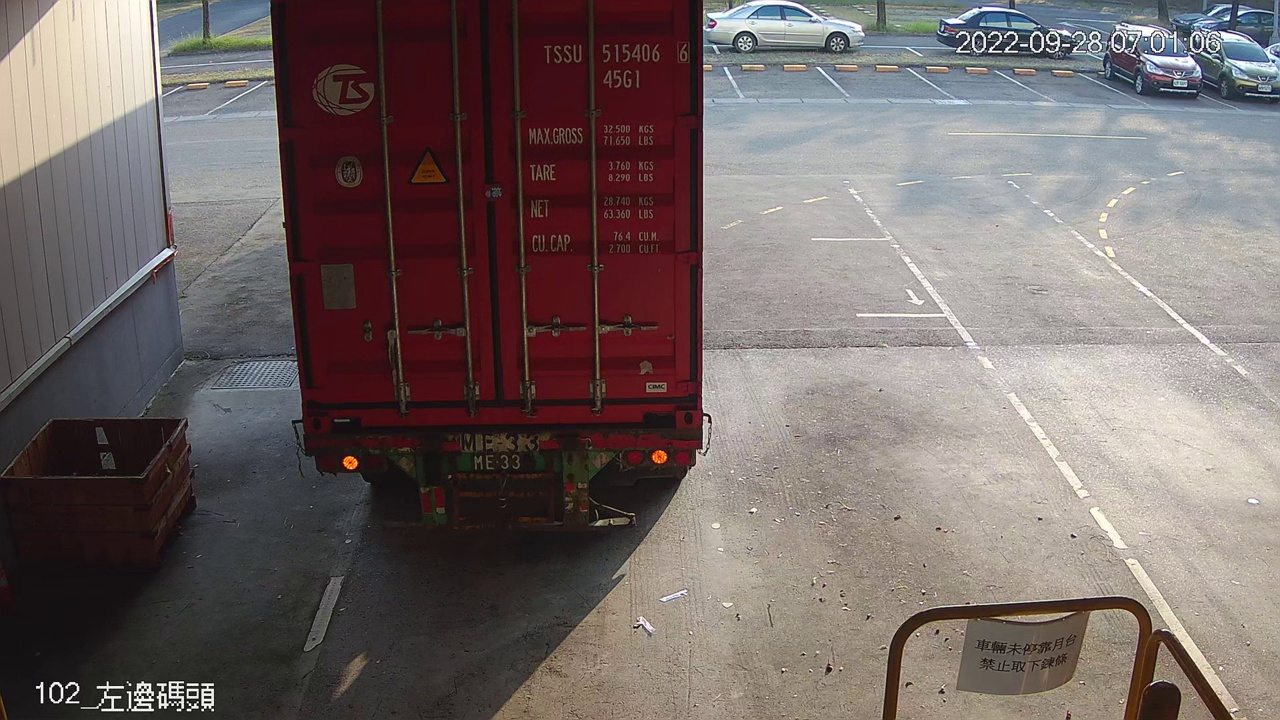container: (535, 34, 697, 95)
